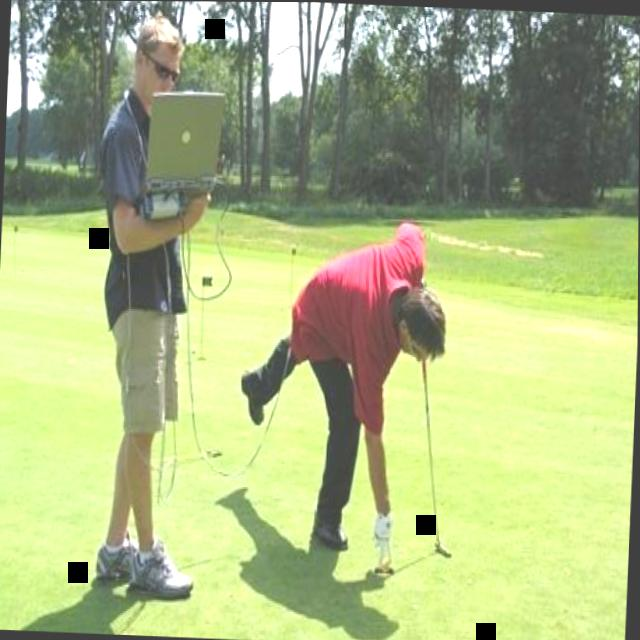golf ball: (381, 556, 390, 570)
